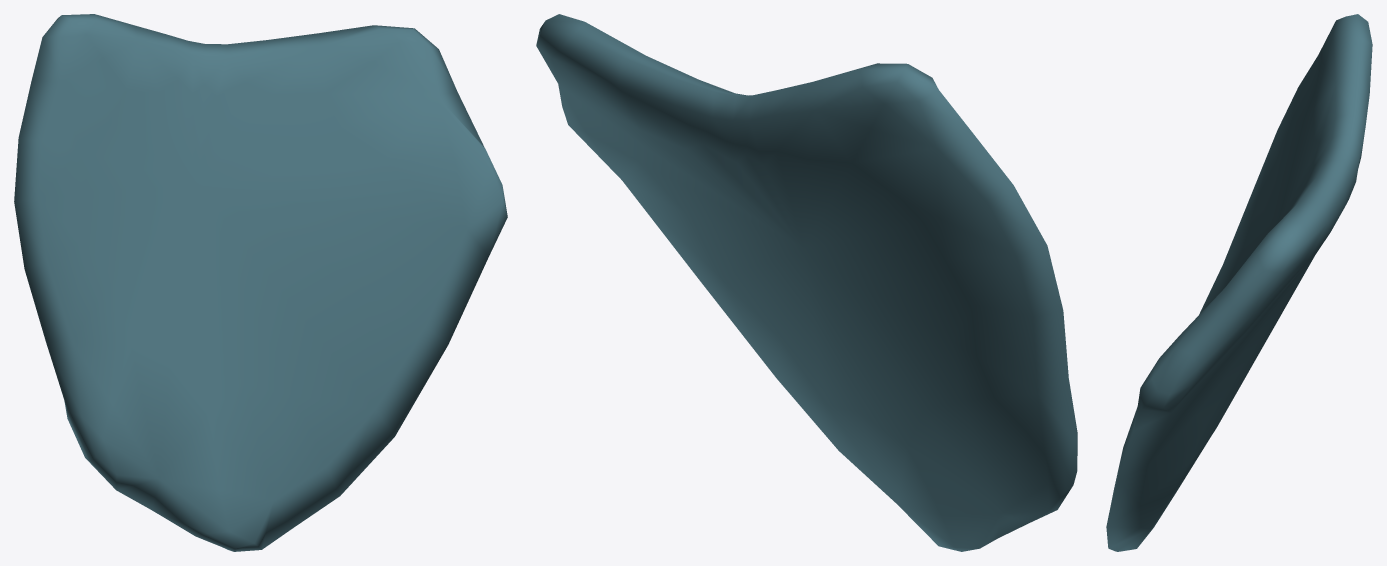
File: Extensor_digitorum&Extensor_indicis-proximal_phalanx.r_Generate.glb
3 renders of one model, left to right at view 1: azimuth 30°, elevation 25°; view 2: azimuth 150°, elevation 25°; view 3: azimuth 270°, elevation 25°, orthographic. The views are drawn at different scales.
Visible parts, largest first — view 1: Extensor_digitorum&Extensor_indicis-proximal_phalanx.r_Gener; view 2: Extensor_digitorum&Extensor_indicis-proximal_phalanx.r_Gener; view 3: Extensor_digitorum&Extensor_indicis-proximal_phalanx.r_Gener.
Part boxes in pixels (x1,y1,x2,y2): Extensor_digitorum&Extensor_indicis-proximal_phalanx.r_Gener: (14, 14, 507, 551); Extensor_digitorum&Extensor_indicis-proximal_phalanx.r_Gener: (536, 14, 1077, 551); Extensor_digitorum&Extensor_indicis-proximal_phalanx.r_Gener: (1106, 14, 1372, 551).
Bounding box in the file's own units: 0.00549 × 0.00577 × 0.00281.
